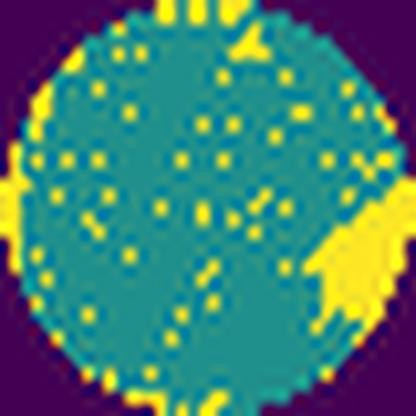Edge-Loc: (301, 172, 415, 352), (0, 141, 34, 272)
